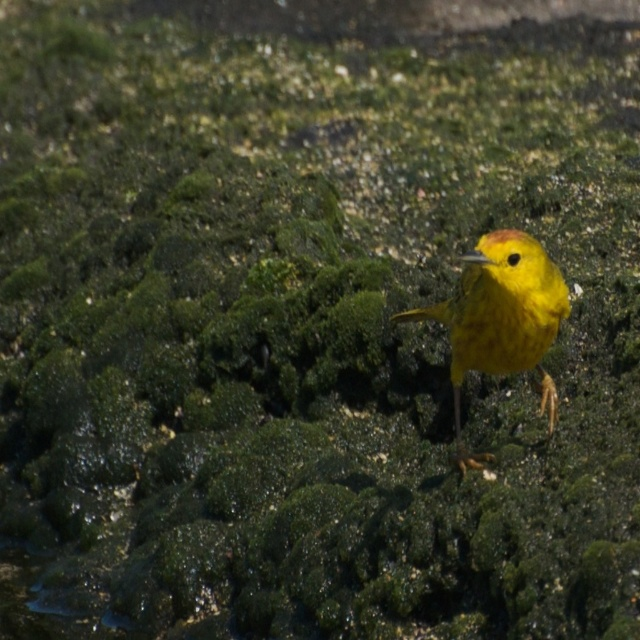Canary: (393, 226, 574, 474)
